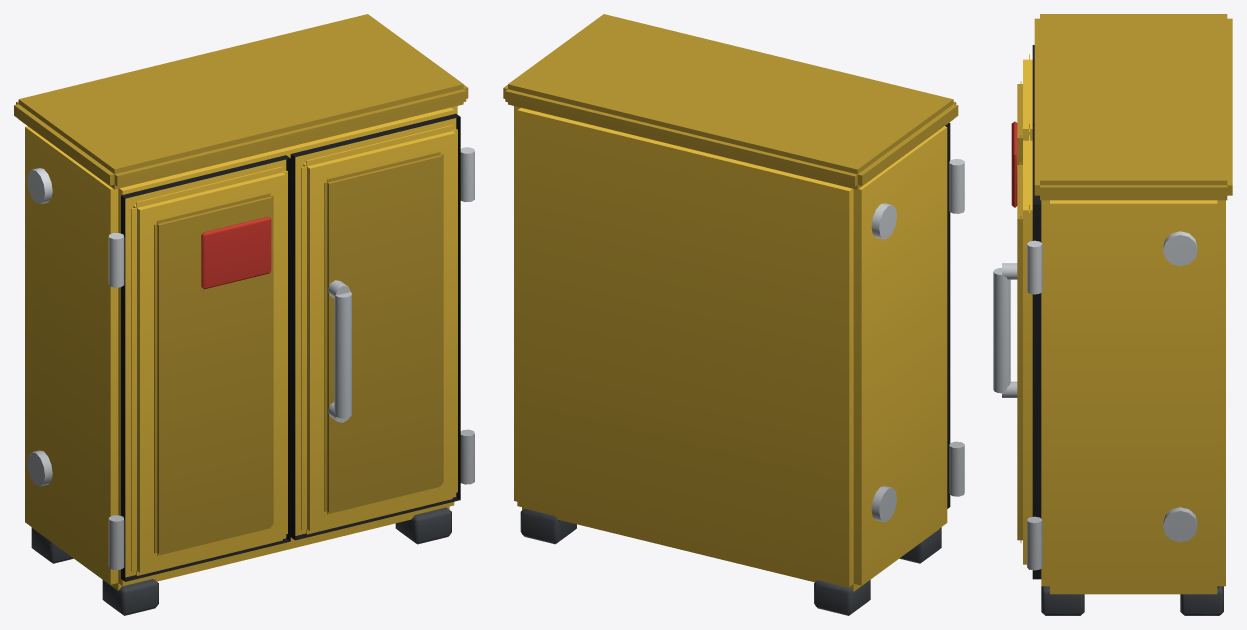
File: SafetyCabinet_01.glb
The picture shows the model from 3 angles, left to right: view 1: azimuth 30°, elevation 25°; view 2: azimuth 150°, elevation 25°; view 3: azimuth 270°, elevation 25°; orthographic projection. The views are drawn at different scales.
Parts seen in each view (by area): view 1: SM_SafetyCabinet_01; view 2: SM_SafetyCabinet_01; view 3: SM_SafetyCabinet_01.
Boxes of the visible parts, bbox=[...] form: SM_SafetyCabinet_01: bbox=[14, 14, 474, 615]; SM_SafetyCabinet_01: bbox=[503, 14, 964, 615]; SM_SafetyCabinet_01: bbox=[993, 14, 1232, 615].
Bounding box in the file's own units: 0.946 × 1.12 × 0.55.
1 material, 1 textured.
